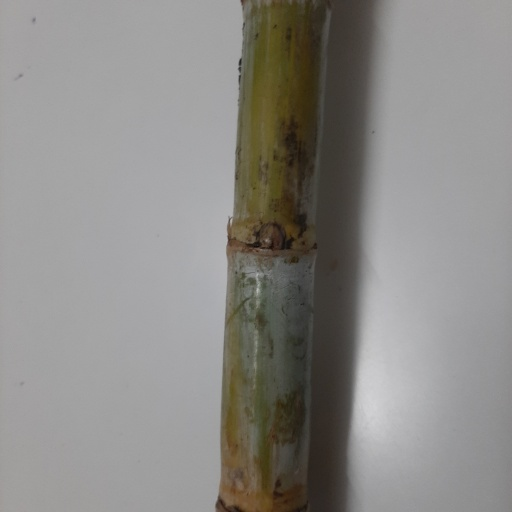Bud: (257, 223, 282, 249)
